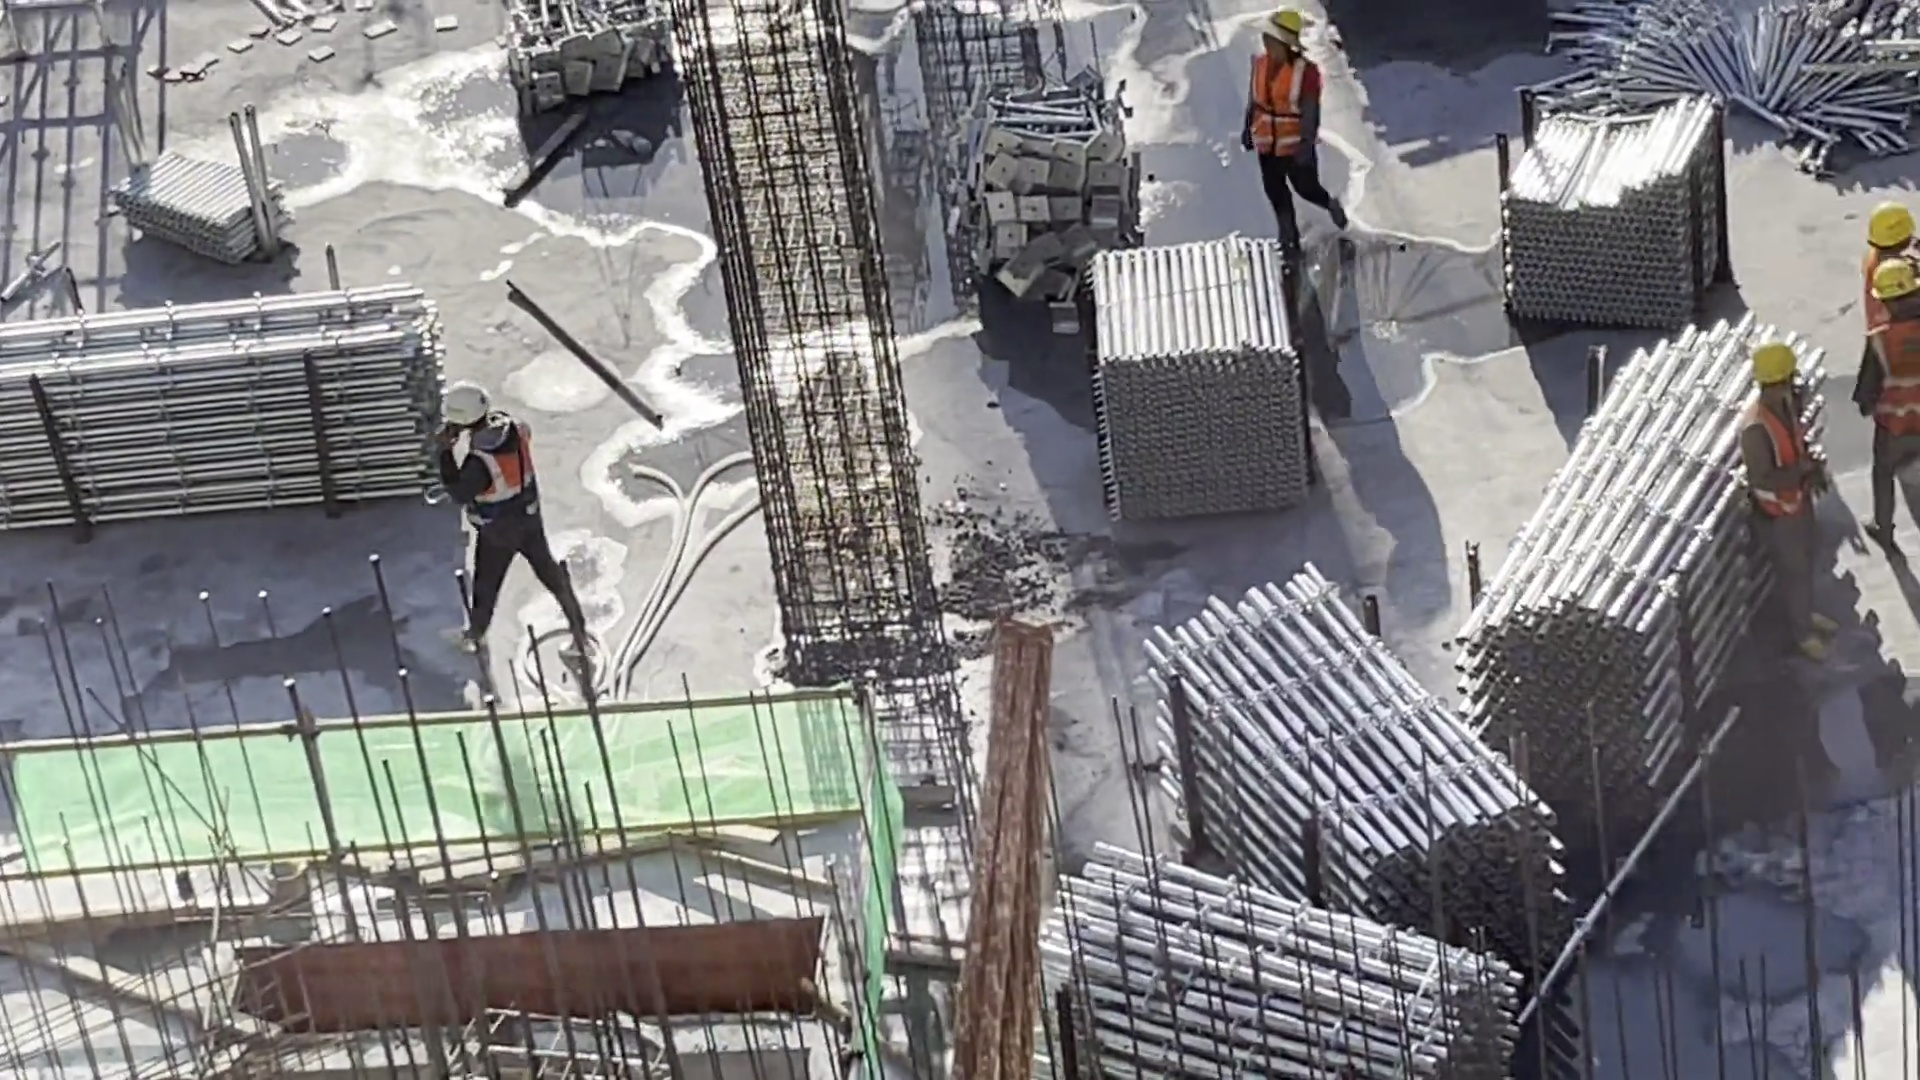helmet: (1269, 7, 1319, 57), (441, 377, 498, 416), (1876, 204, 1909, 251), (1764, 341, 1796, 381), (1883, 262, 1911, 307)
person: (439, 374, 541, 623), (1259, 1, 1344, 231), (1754, 328, 1821, 595), (1861, 186, 1920, 285), (1876, 300, 1920, 400)
scaffold: (1443, 314, 1798, 836), (1144, 587, 1534, 926), (1011, 857, 1513, 1066), (1, 317, 448, 516), (1086, 261, 1314, 516), (1476, 107, 1713, 337), (104, 139, 336, 264)
vest: (1758, 381, 1818, 496), (1261, 64, 1329, 144), (484, 432, 546, 517), (1868, 329, 1914, 419), (1861, 232, 1908, 294)
